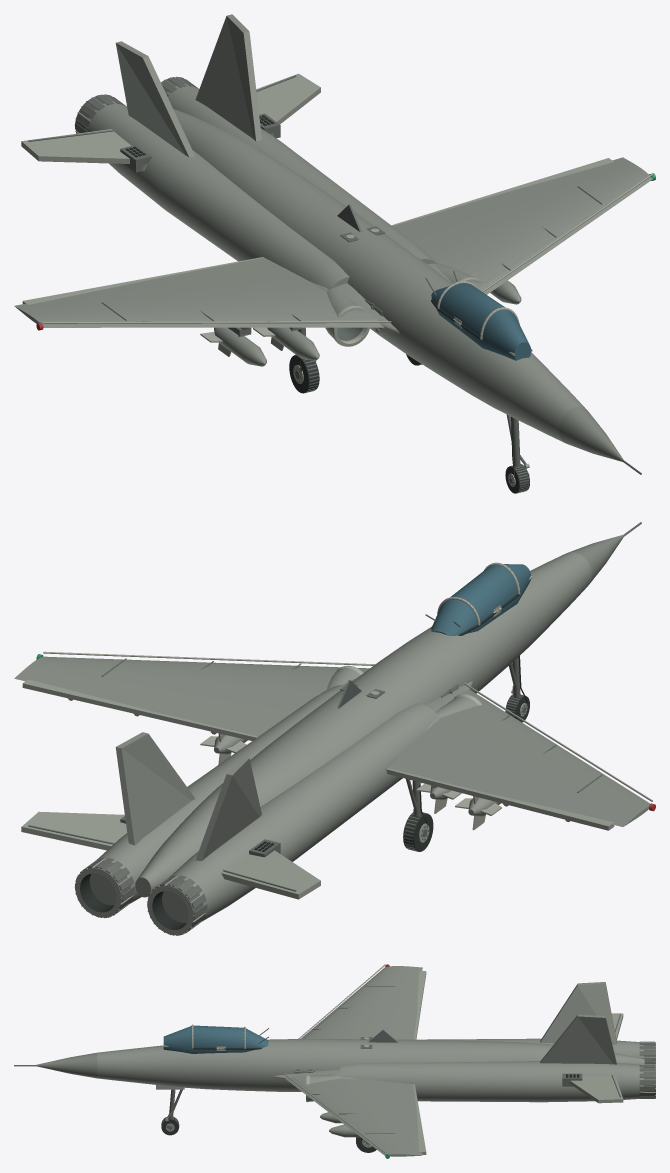
File: spheres-air-tactical-strike.glb
3 views of the same model, one above another, from view 1: azimuth 30°, elevation 25°; view 2: azimuth 150°, elevation 25°; view 3: azimuth 270°, elevation 25° (orthographic). The views are drawn at different scales.
Visible parts, largest first — view 1: Spheres tactical strike aircraft; view 2: Spheres tactical strike aircraft; view 3: Spheres tactical strike aircraft.
Part boxes in pixels (<box>): Spheres tactical strike aircraft: <box>14,14,655,493</box>; Spheres tactical strike aircraft: <box>14,522,655,935</box>; Spheres tactical strike aircraft: <box>14,964,655,1158</box>.
Bounding box in the file's own units: 12.44 × 4.08 × 17.73.
